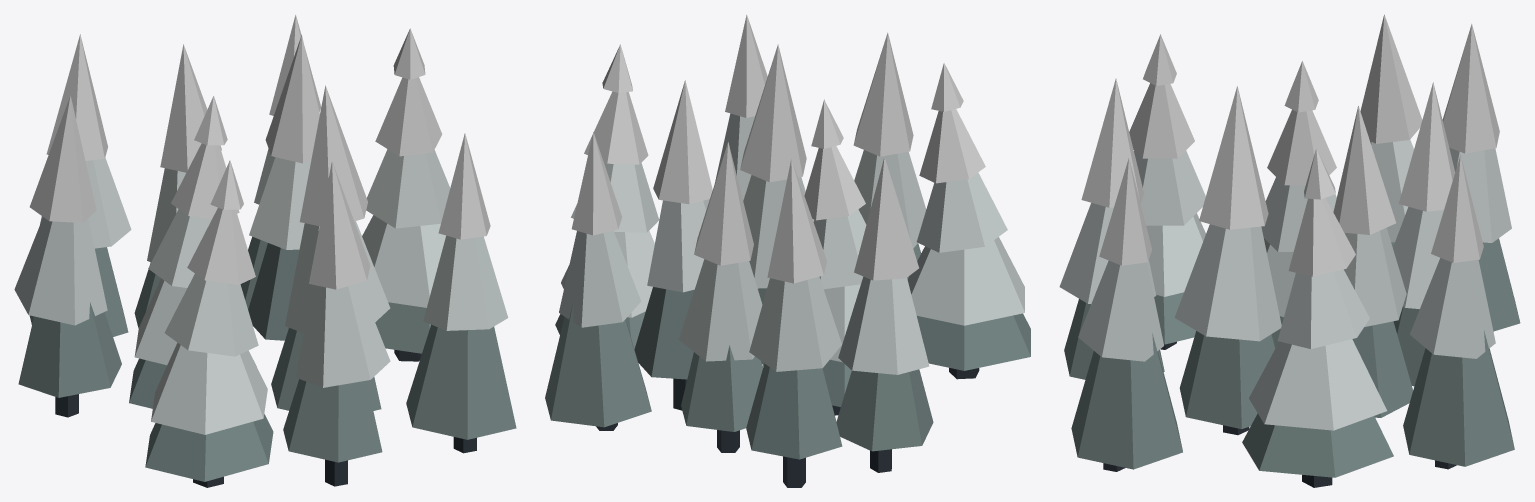
The model's file is Trees.fbx.
3 views of the same model, side by side, from view 1: azimuth 30°, elevation 25°; view 2: azimuth 150°, elevation 25°; view 3: azimuth 270°, elevation 25° (orthographic). The views are drawn at different scales.
Parts seen in each view (by area): view 1: Cylinder.001; view 2: Cylinder.001; view 3: Cylinder.001.
Boxes of the visible parts, x1,y1,x2,y2 form: Cylinder.001: [14, 14, 516, 487]; Cylinder.001: [545, 14, 1030, 487]; Cylinder.001: [1059, 14, 1520, 487].
Bounding box in the file's own units: 1057 × 1017 × 834.
